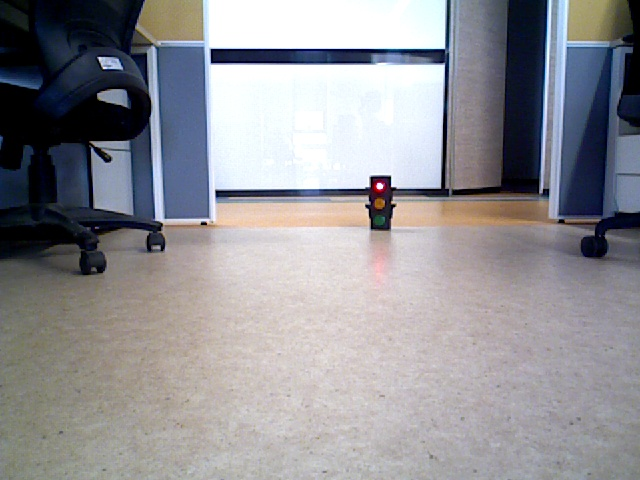red: (370, 174, 390, 228)
